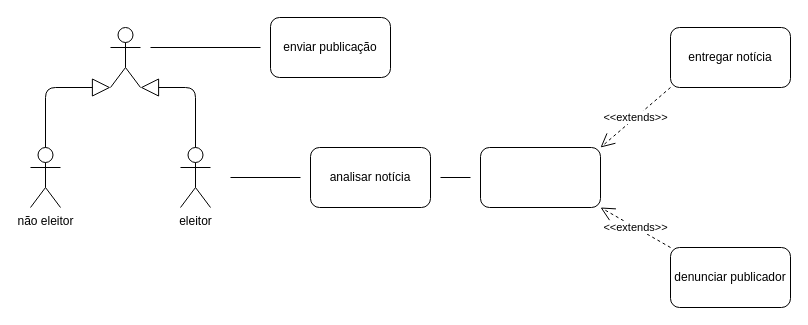
This 808x325 diagram has some shape labels left out. Each missing label, with the box of its shape:
filtrar notícia: (480, 146, 600, 208)
Publicador: (110, 26, 140, 88)
